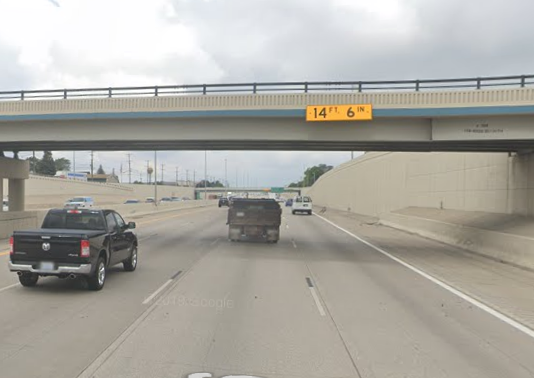1: (310, 105, 321, 121)
4: (317, 106, 328, 121)
6: (342, 104, 358, 121)
overheadsign: (304, 102, 374, 123)
